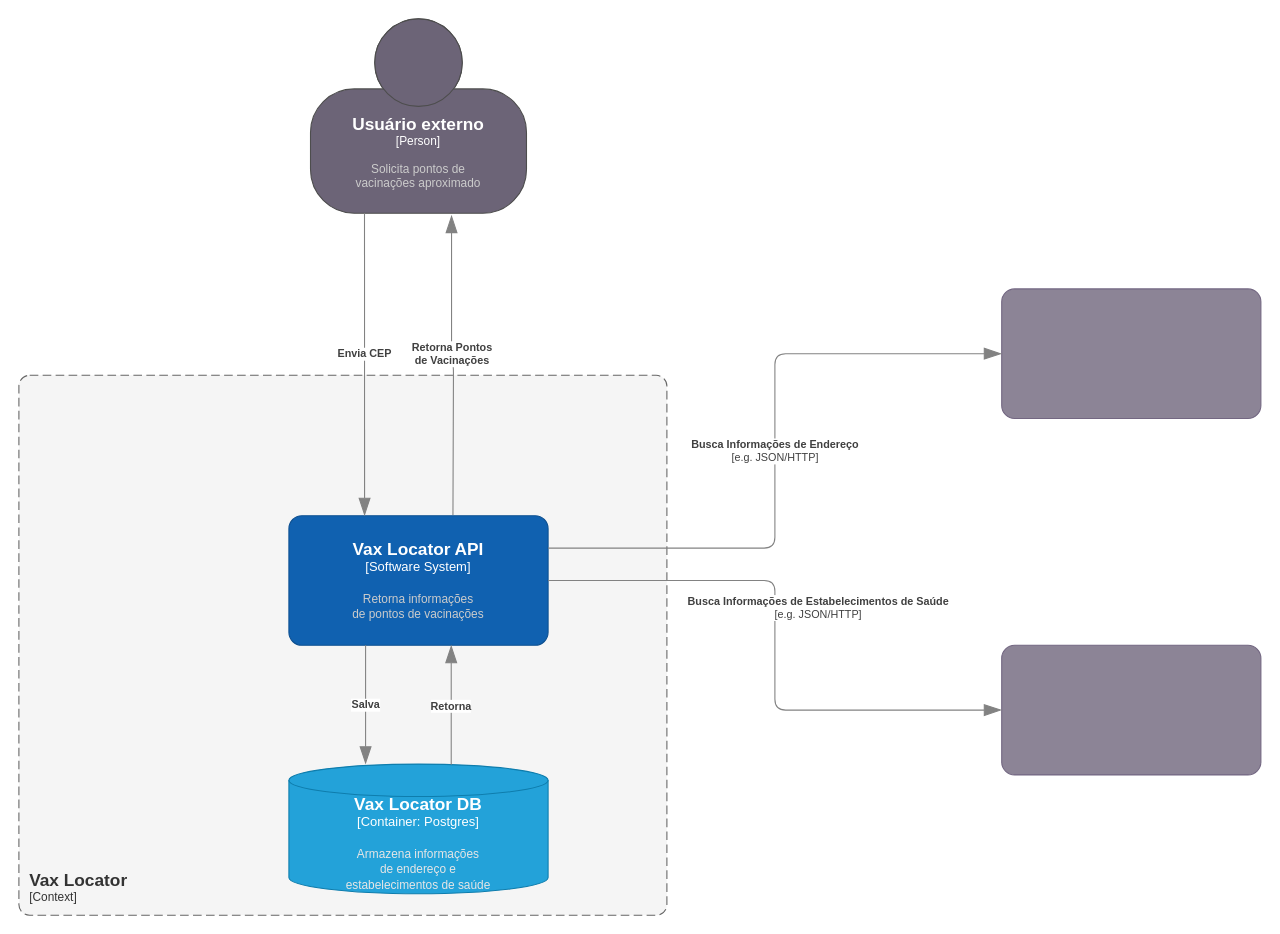
This 1280x934 diagram has some shape labels left out. Each missing label, with the box of its shape:
Demas API [Software System] Retorna informações sobre estabelecimentos: (1001, 288, 1261, 418)
OpenCageData API [Software System] Retorna informações de endereços: (1001, 644, 1261, 775)
